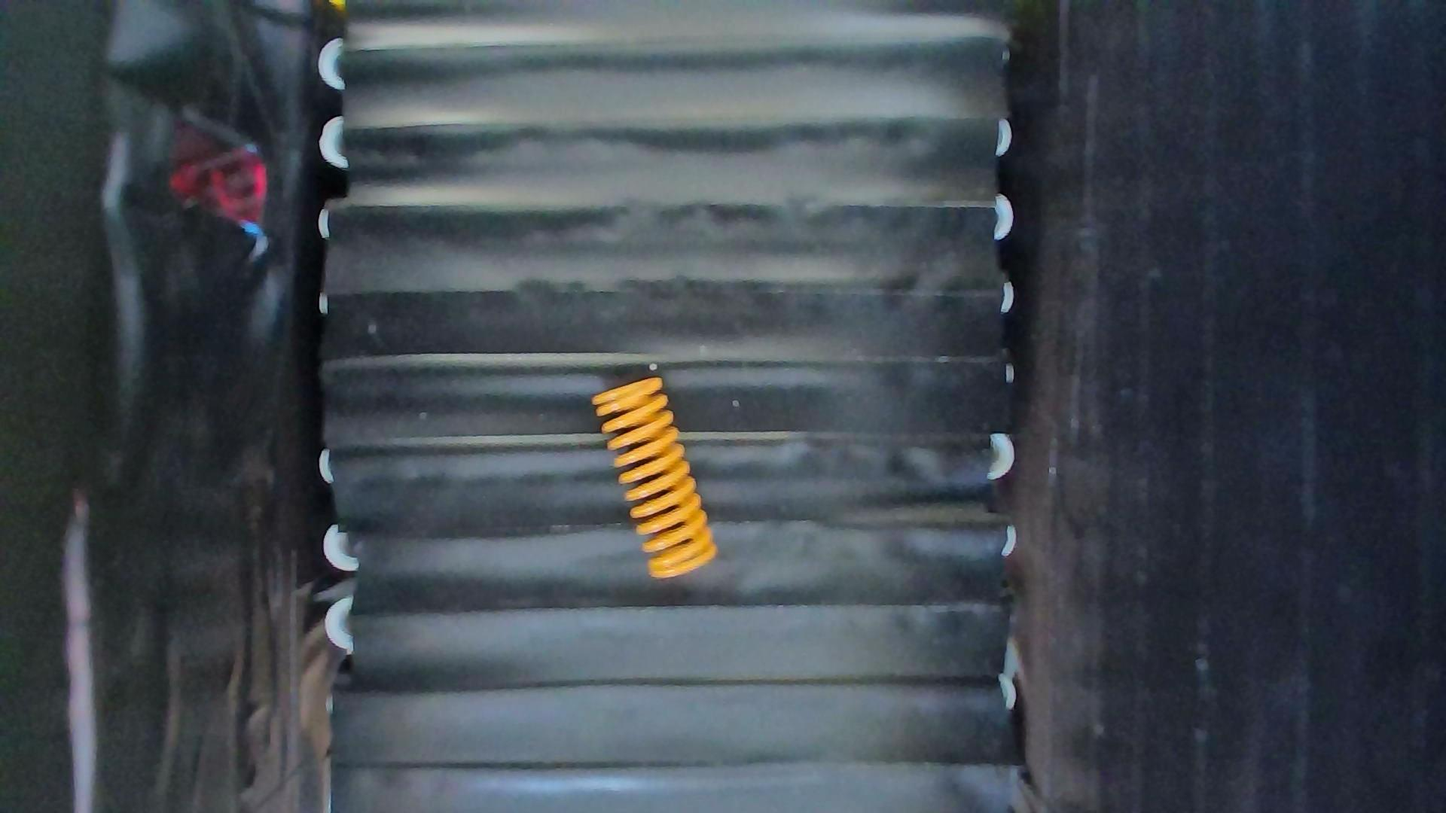spring: (590, 375, 722, 579)
